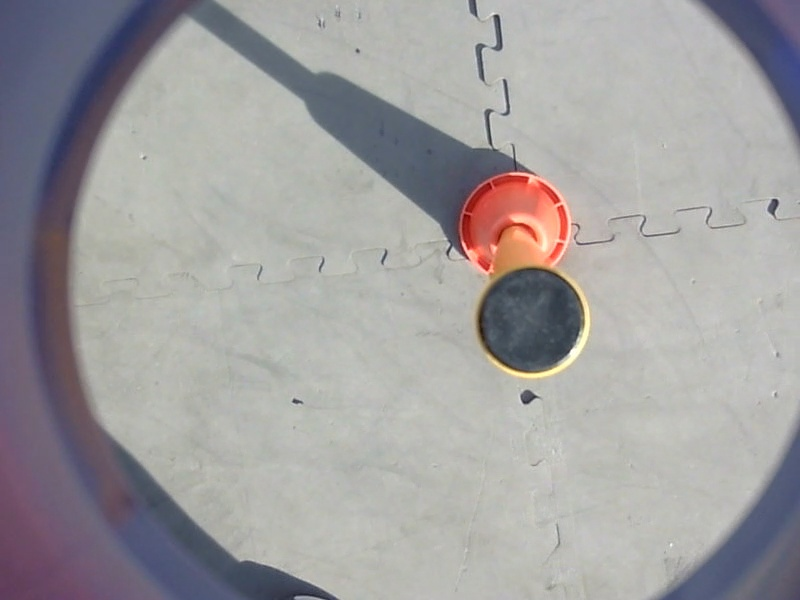tip: (470, 261, 595, 384)
